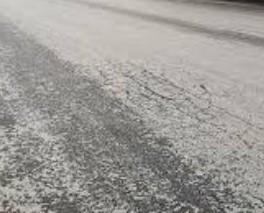alligator-crack: (21, 133, 261, 210), (8, 21, 101, 131), (107, 51, 241, 117)
